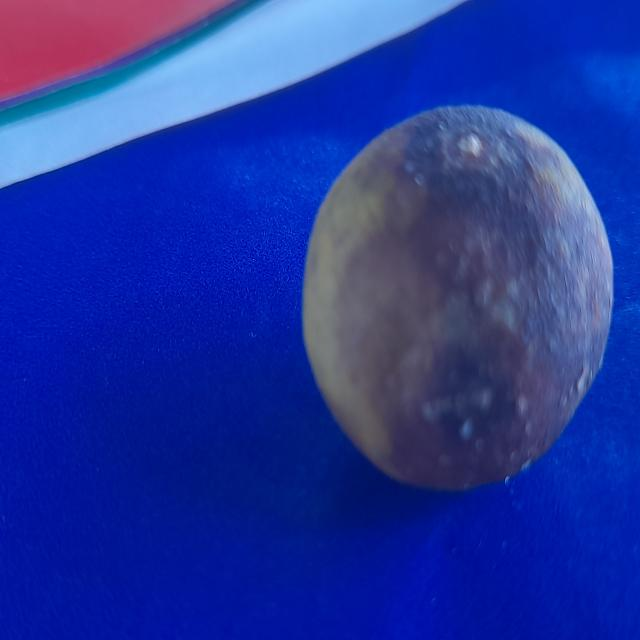black spot: (307, 101, 616, 484)
